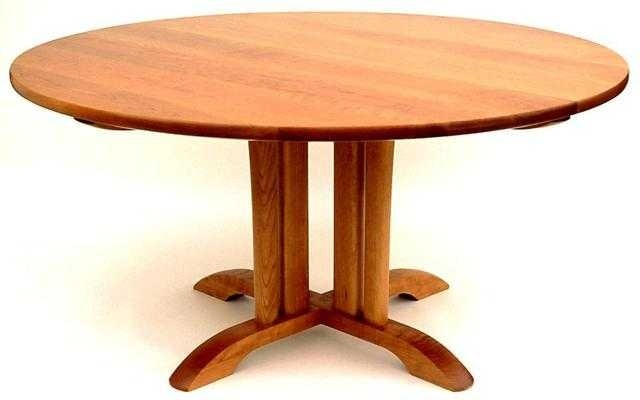obstacle: (0, 2, 639, 397)
